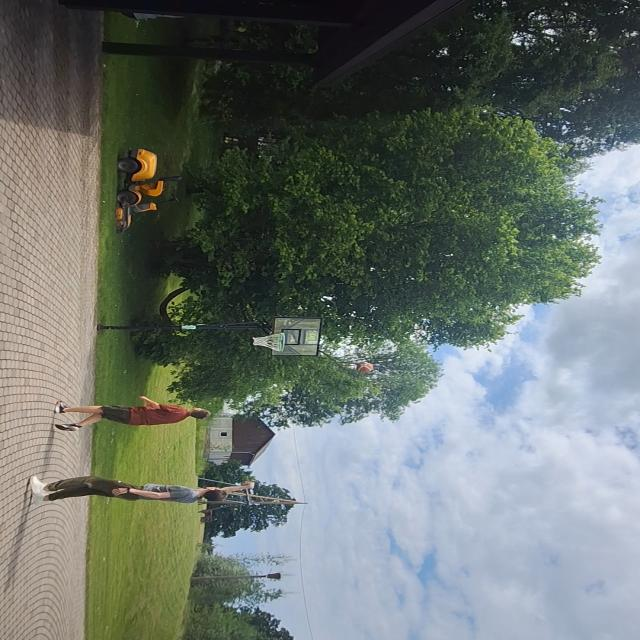ball: (357, 362, 377, 373)
hoop: (252, 332, 288, 353)
player: (28, 469, 260, 508), (52, 398, 214, 432)
